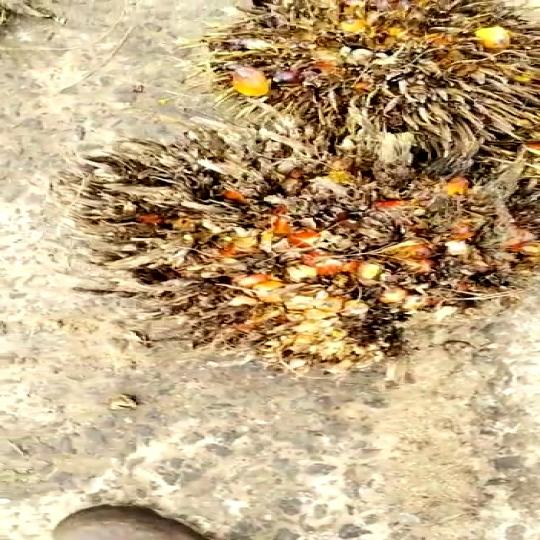terlalu masak: (49, 128, 540, 370), (170, 0, 540, 145)
